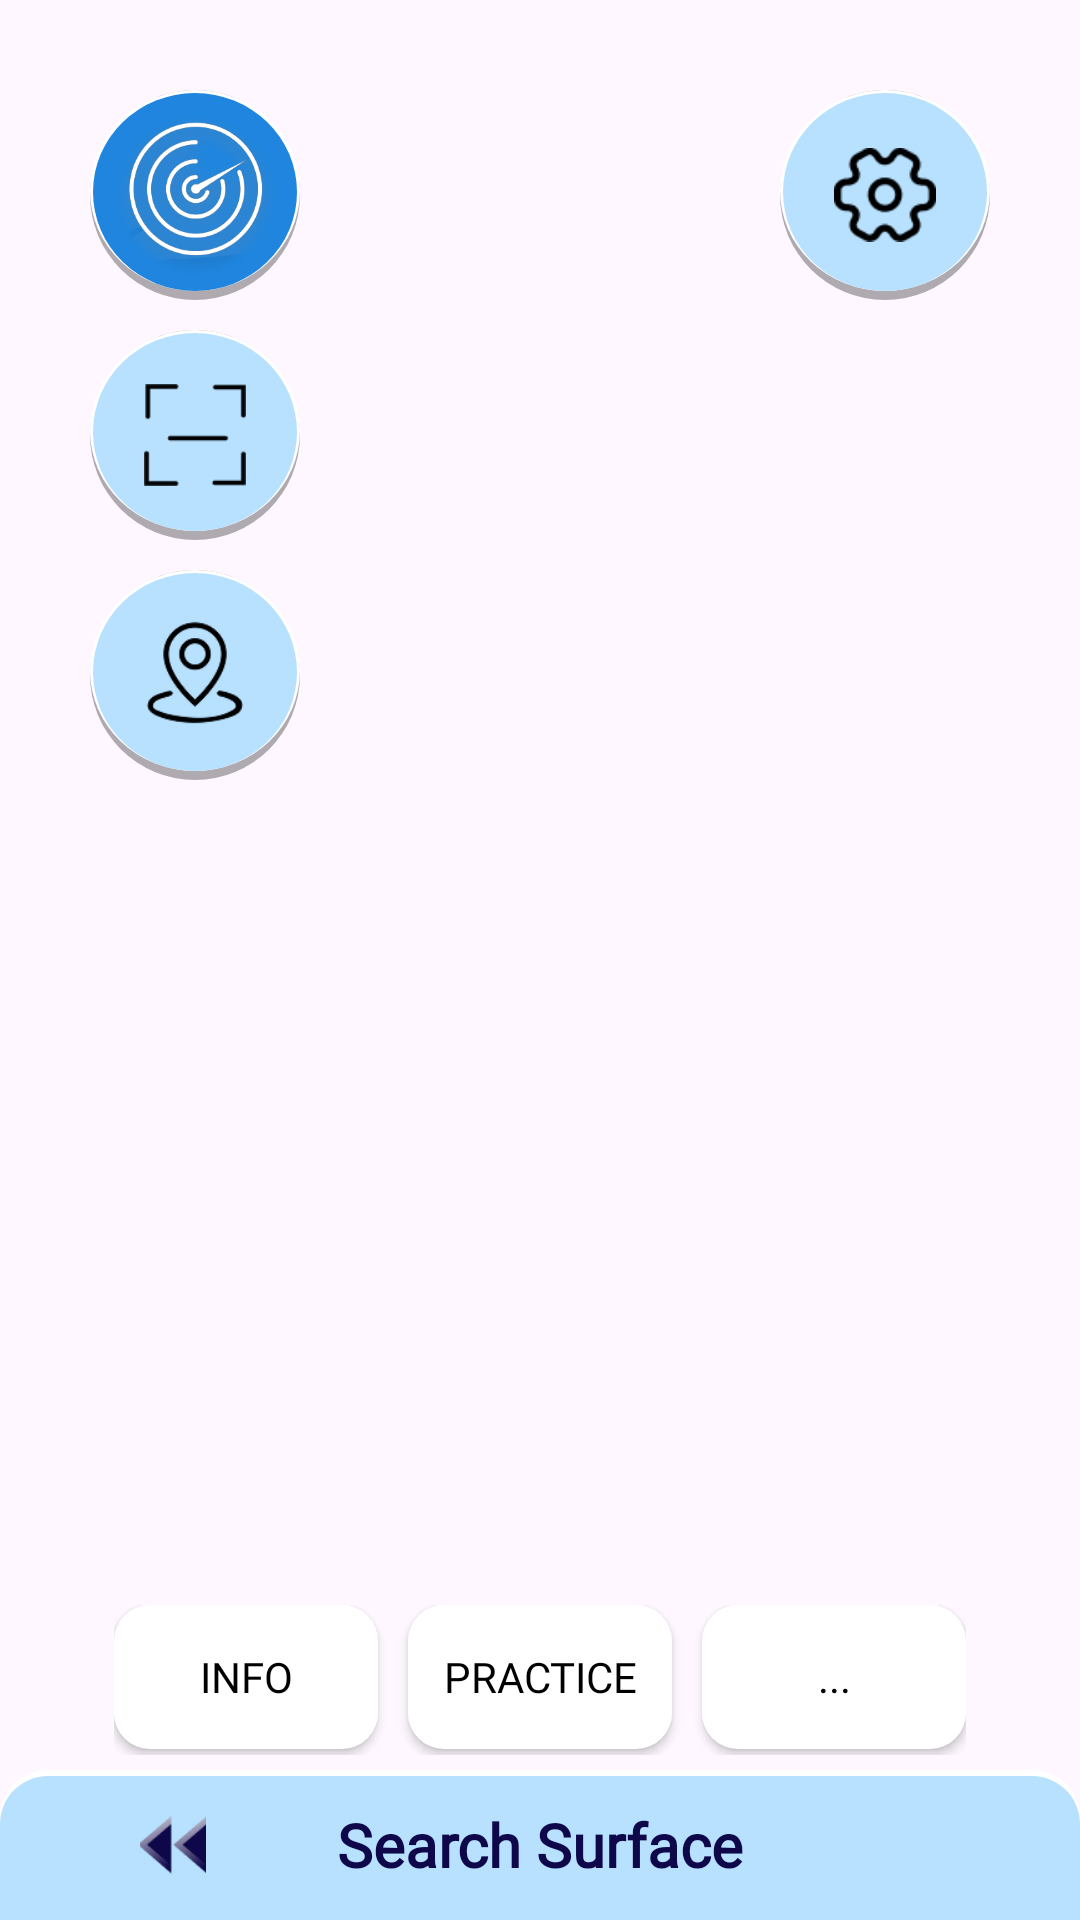

Icons on this 1080w x 1920h Android screen, each with its box as bbox=(x1, y1, x2, y2):
position: bbox=(90, 573, 300, 780)
radar: bbox=(90, 93, 300, 300)
setting: bbox=(780, 93, 990, 300)
